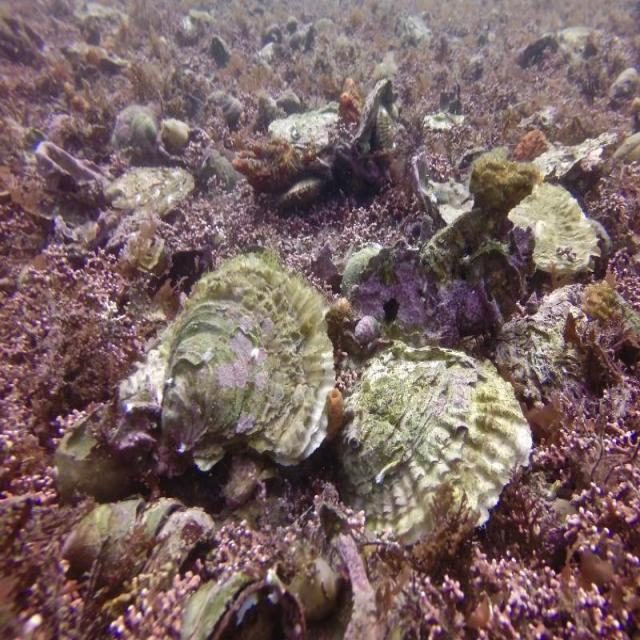Oyster- Indeterminate: (338, 342, 532, 543), (159, 255, 335, 469), (495, 285, 587, 409), (509, 185, 601, 277), (269, 102, 339, 149), (376, 107, 405, 156)
Oyster-Closed: (104, 167, 194, 217), (354, 79, 398, 153)
